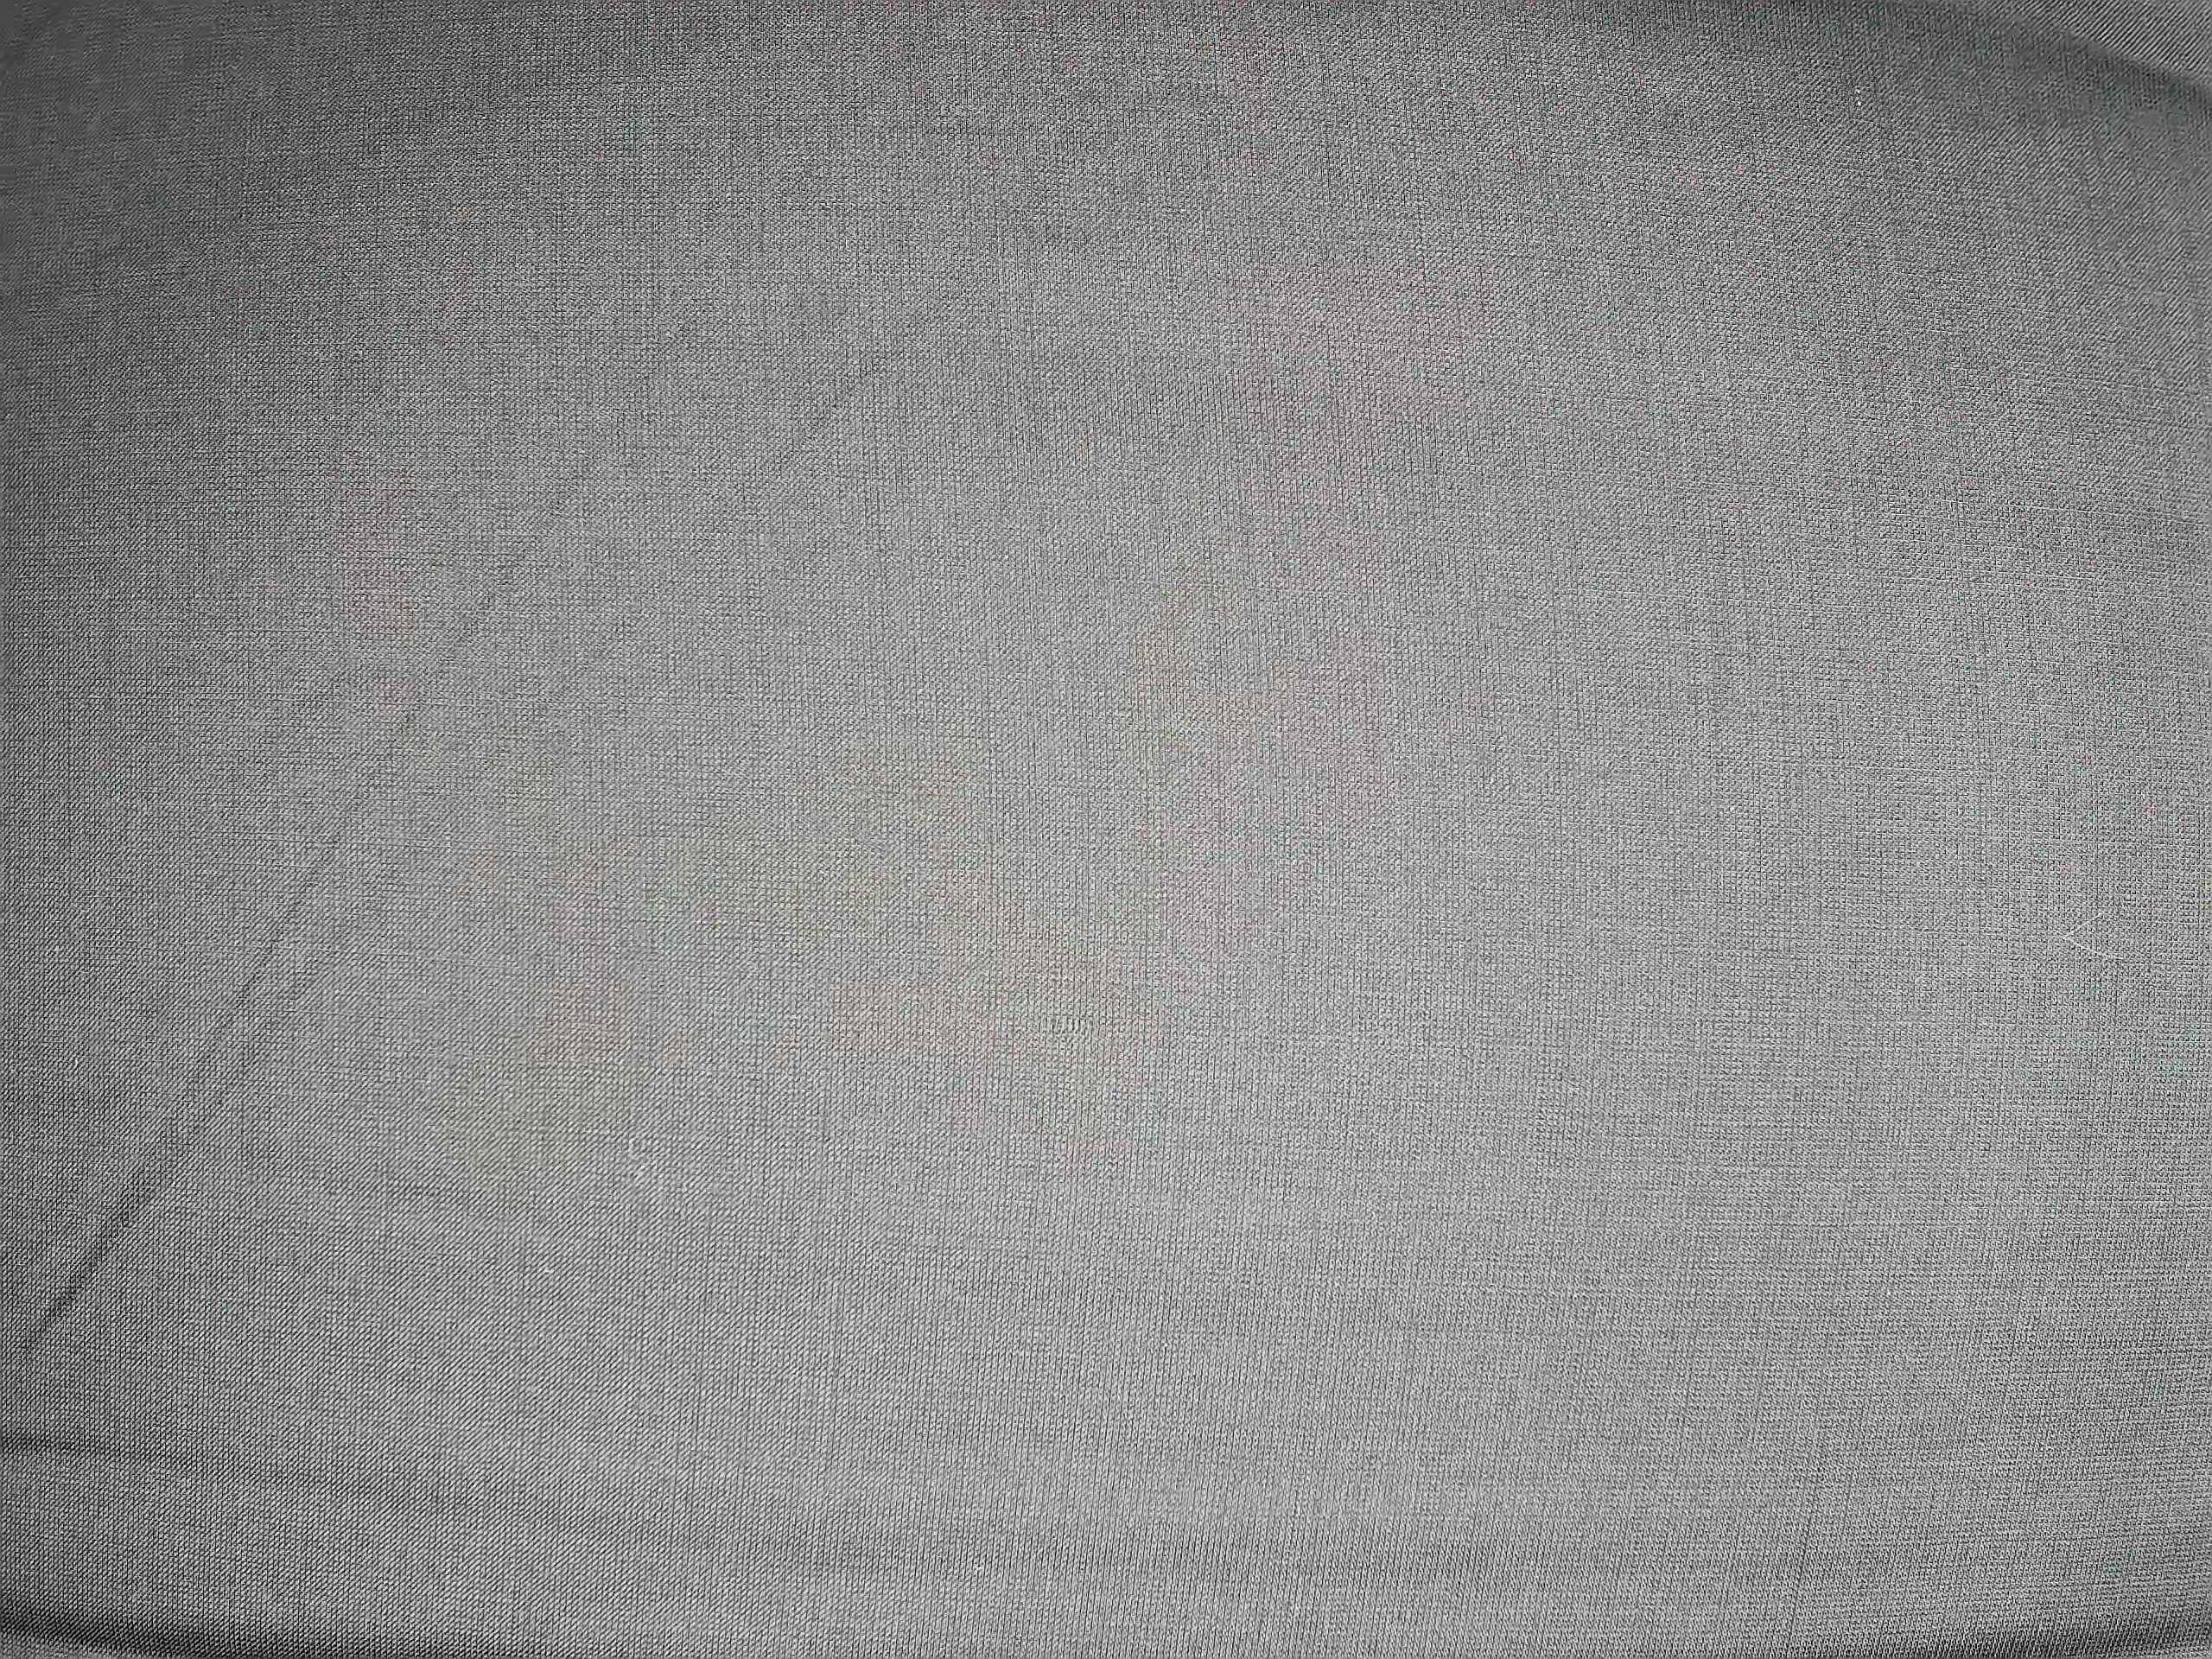jumps: (622, 1126, 658, 1208)
